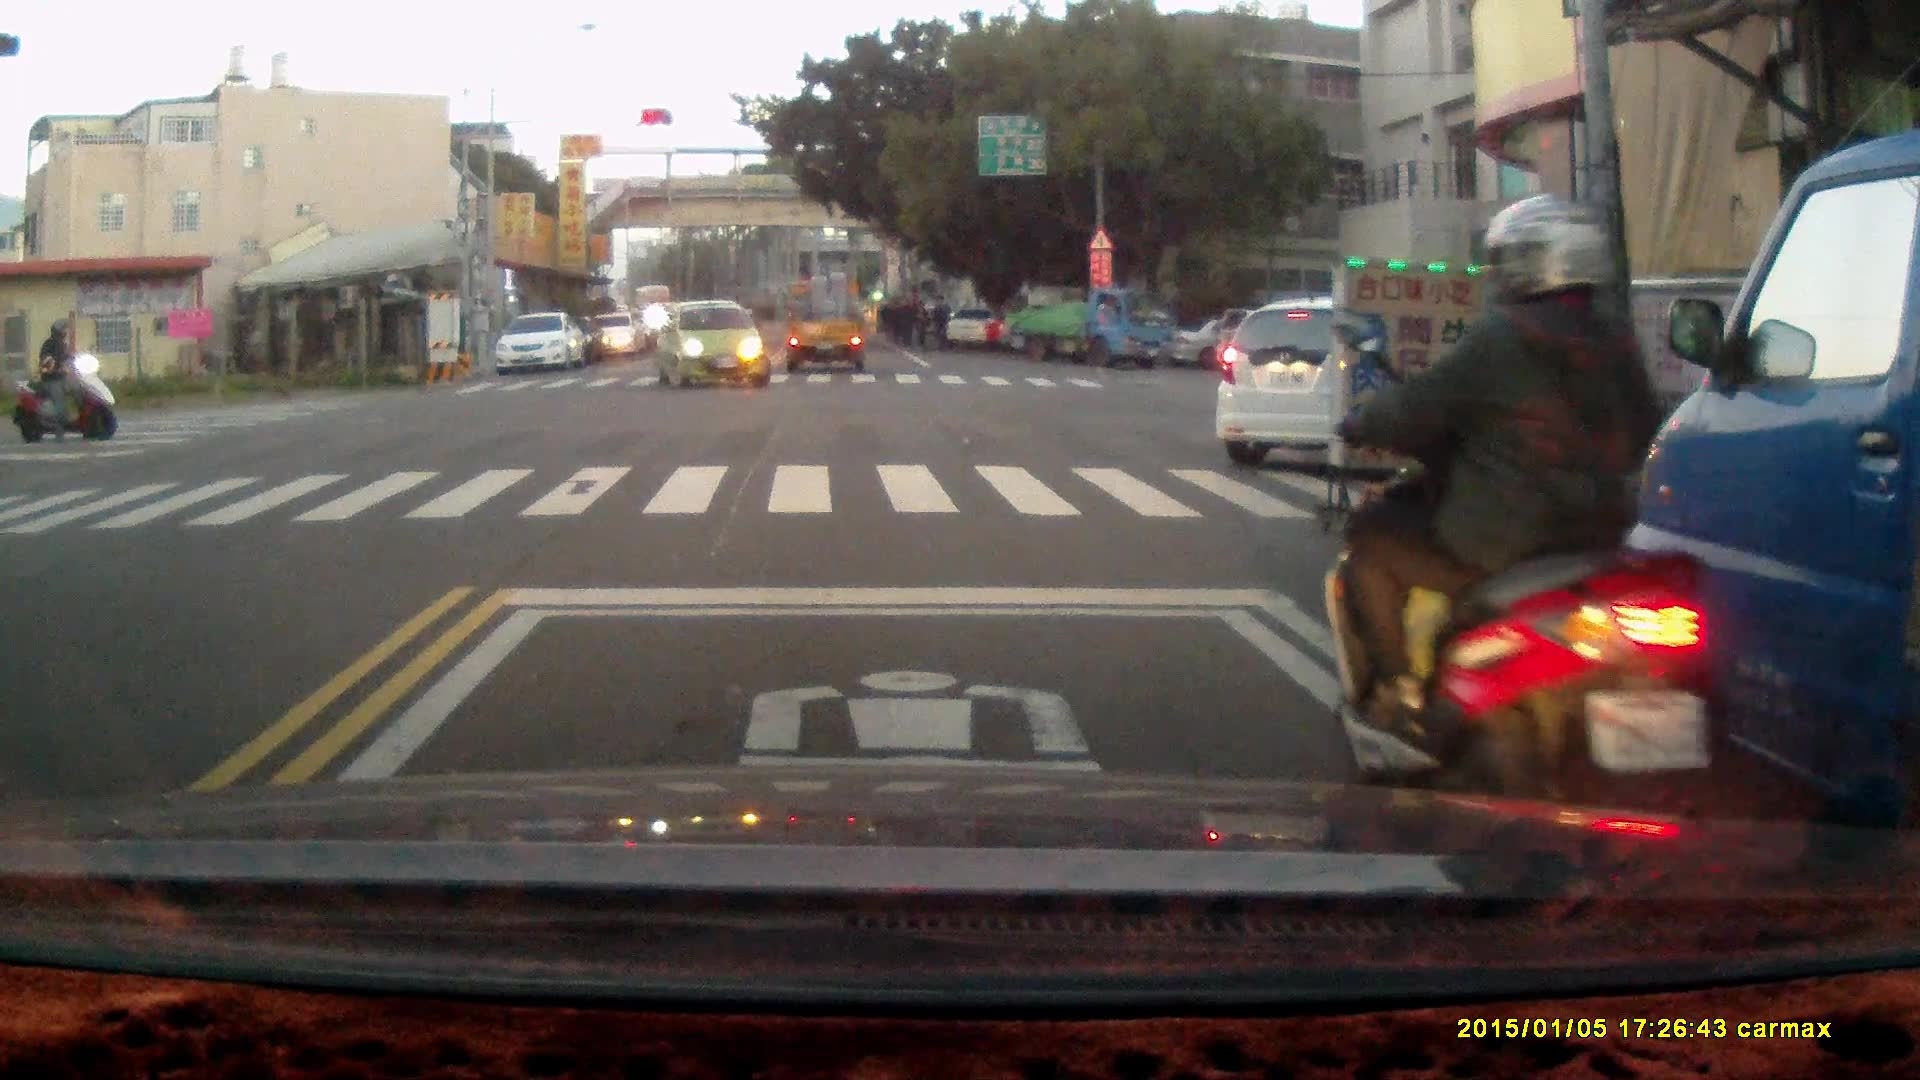rider: (1321, 192, 1718, 859), (10, 317, 119, 441)
vehicle: (1600, 132, 1920, 919), (1209, 294, 1521, 465), (1002, 284, 1175, 367), (662, 296, 775, 392), (785, 268, 870, 379), (498, 313, 587, 377), (592, 311, 642, 360)
